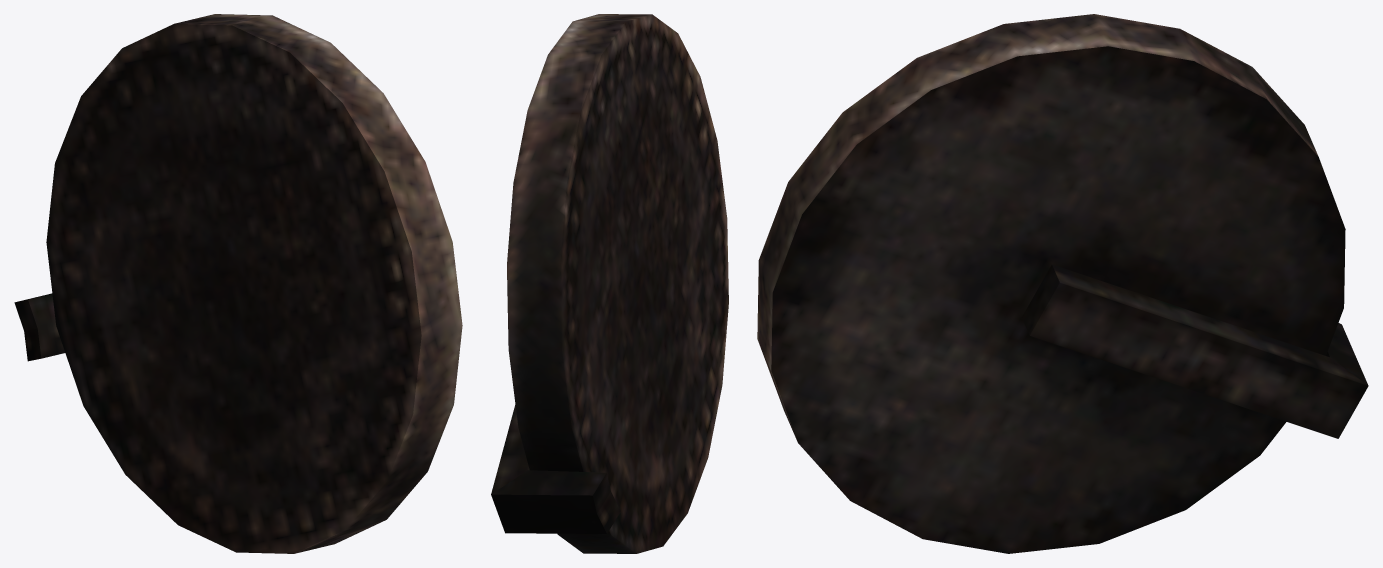
File: elevator_machine_hatch.dae
3 views of the same model, side by side, from view 1: azimuth 30°, elevation 25°; view 2: azimuth 150°, elevation 25°; view 3: azimuth 270°, elevation 25° (orthographic). The views are drawn at different scales.
Parts seen in each view (by area): view 1: hatch; view 2: hatch; view 3: hatch.
Part boxes in pixels (x1=…): hatch: x1=14, y1=14, x2=462, y2=553; hatch: x1=491, y1=14, x2=728, y2=553; hatch: x1=757, y1=14, x2=1368, y2=553.
Bounding box in the file's own units: 0.3071 × 0.7471 × 0.771.
